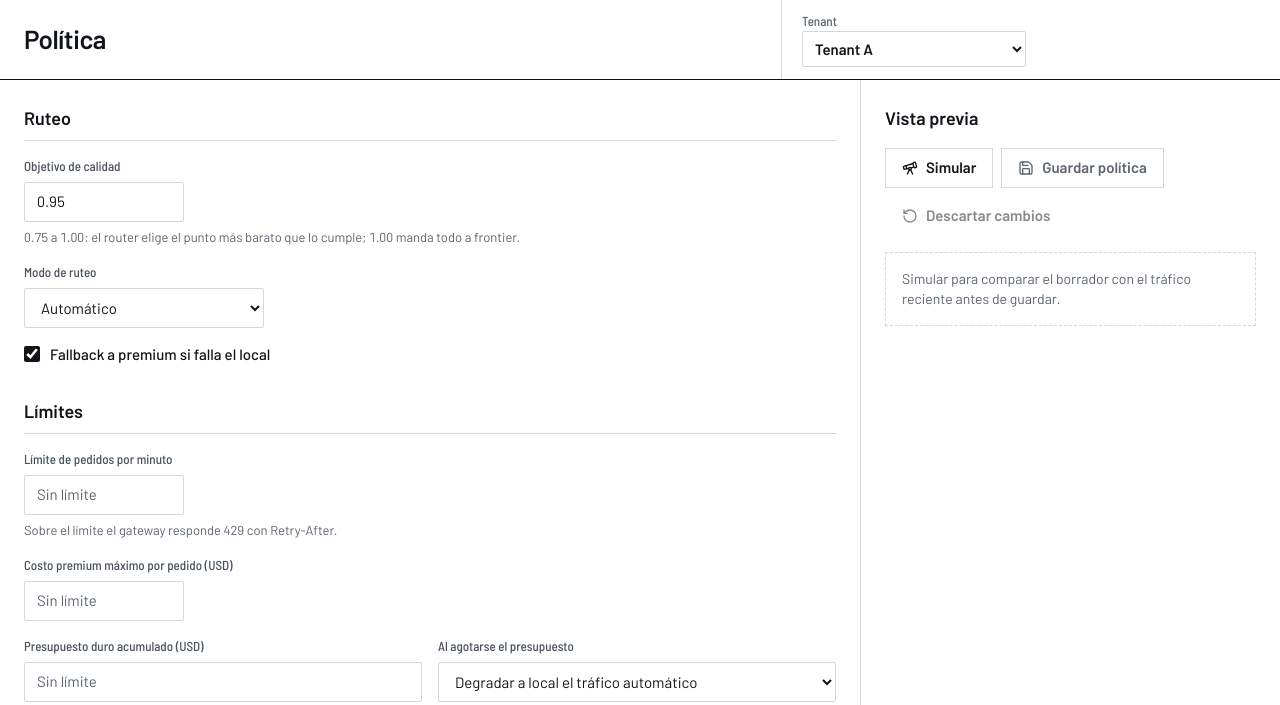
Test case: policy-page › previews the current draft without saving and keeps save explicit
Expected: the heading "Vista previa" is shown, [885,104,978,132]
Select "Solo premium" in the dropdown labelled "Modo de ruteo" at (144, 308), box [24,288,264,328]
(page scrolled)
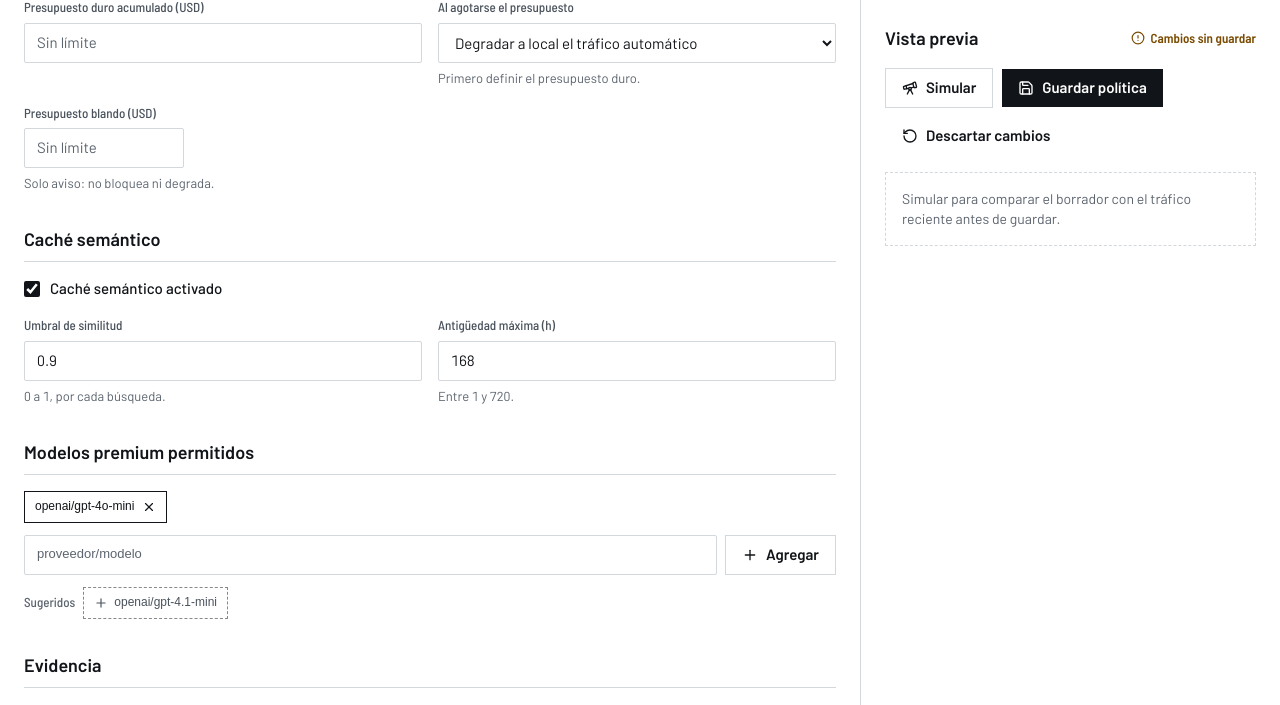
Replace the text in the field labelled "Umbral de similitud" with "0.82" at (223, 361), box [24,341,422,381]
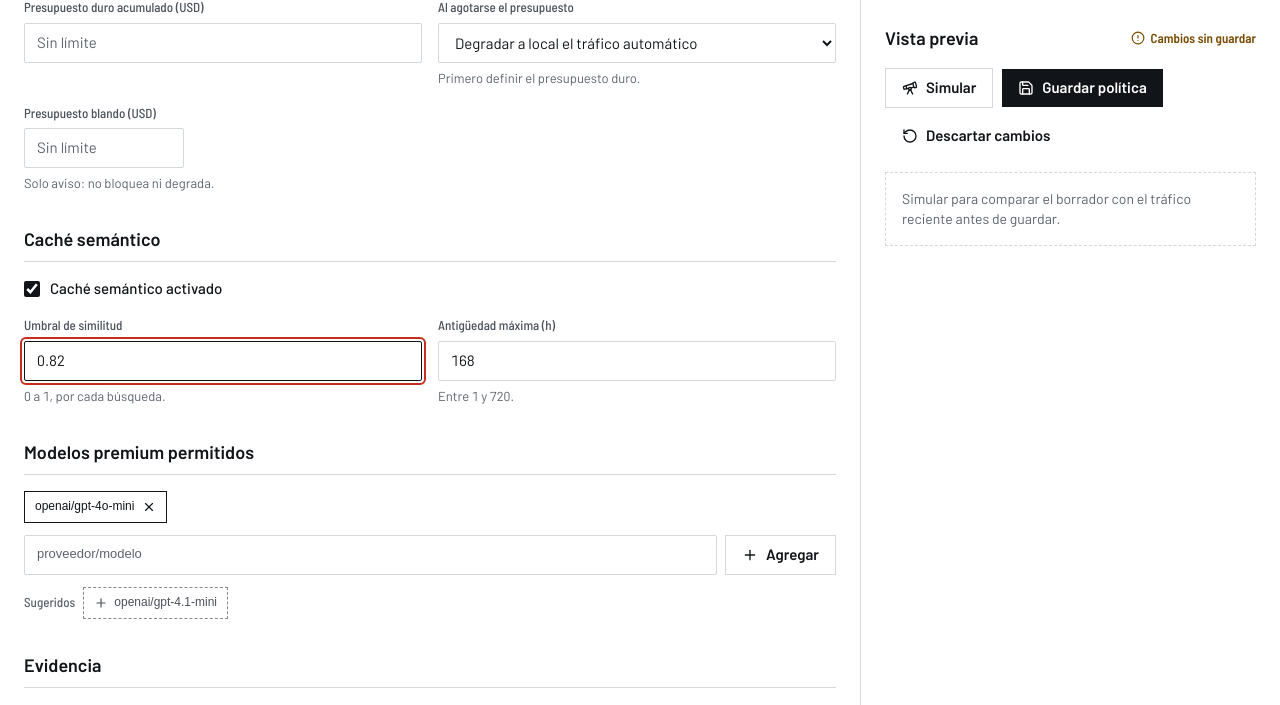
Replace the text in the field labelled "Antigüedad máxima (h)" with "48" at (637, 361), box [438,341,836,381]
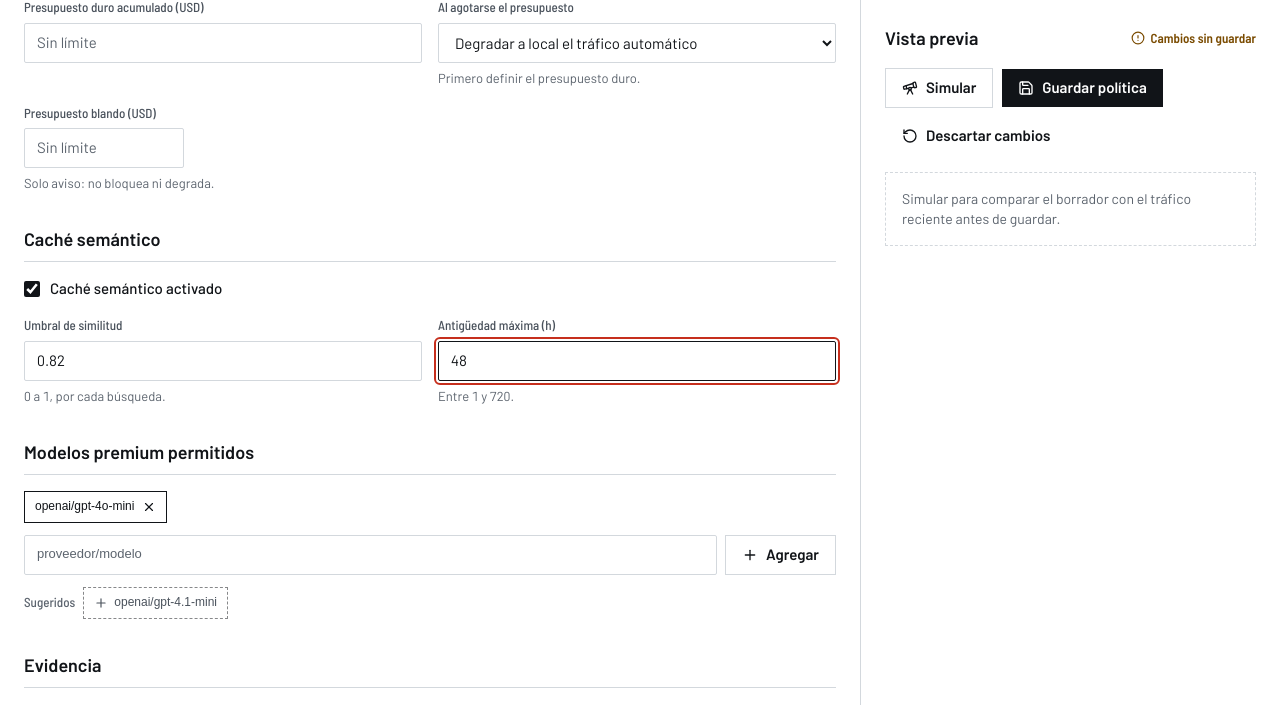
Click the button "Simular" at (939, 88), box [885,68,993,108]
(page scrolled)
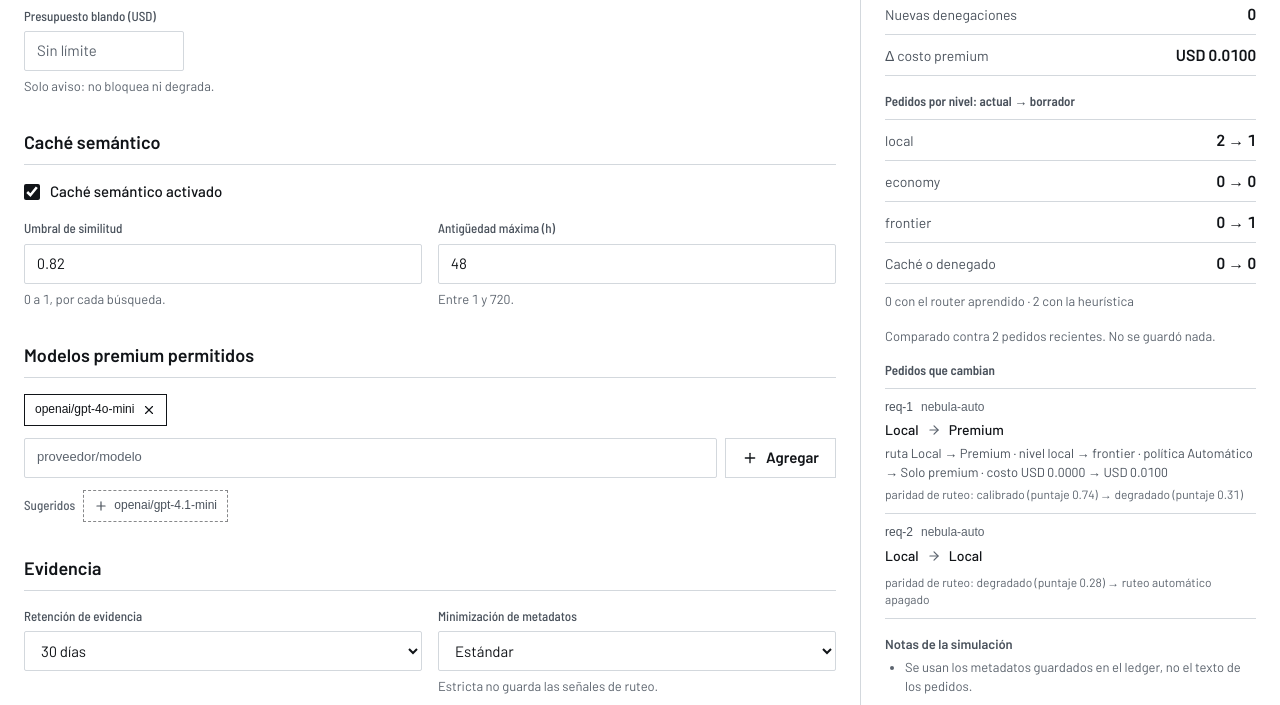
Now the heading "Pedidos que cambian" is shown, box [885,363,995,379]
Now the text "Comparado contra 2 pedidos recientes. No se guardó nada." is shown, box [885,327,1256,346]
Now the text "paridad de ruteo: calibrado (puntaje 0.74) → degradado (puntaje 0.31)" is shown, box [885,486,1256,504]
